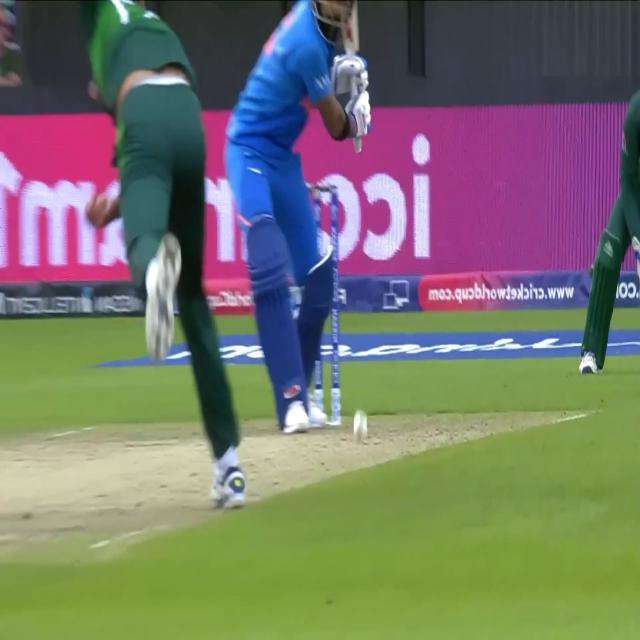ball: (353, 401, 369, 440)
